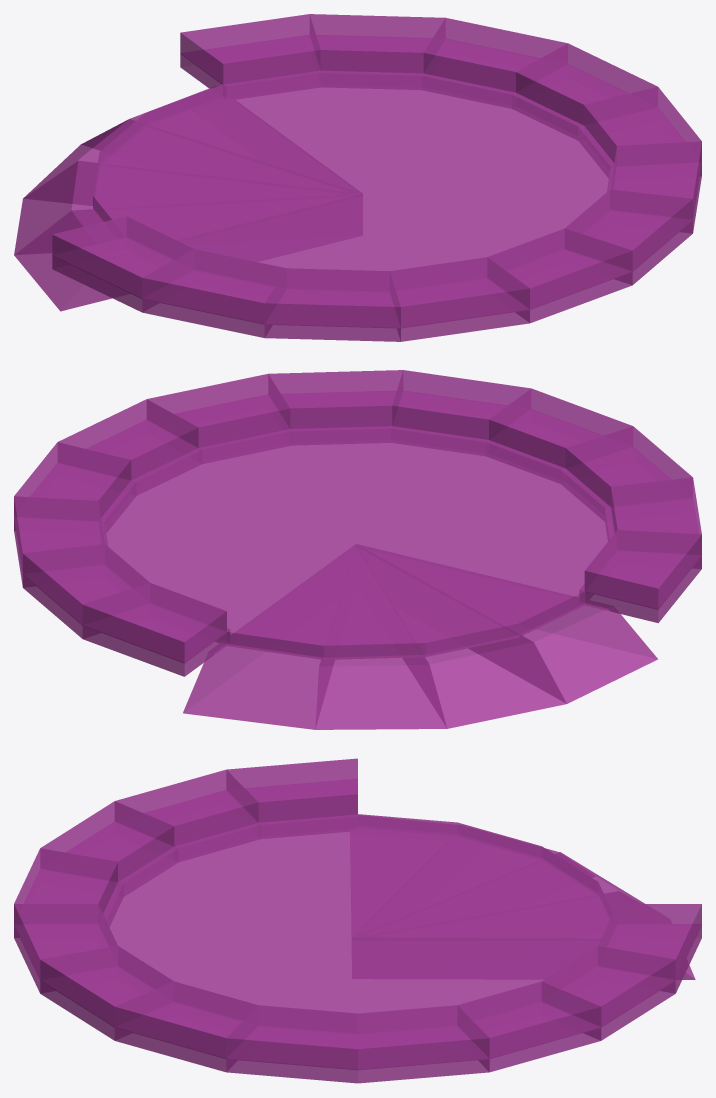
The model's file is SM_Bld_Wall_Fort_L_Corner_Tower_02_Cap_01_Collision.fbx.
3 renders of one model, top to bottom at view 1: azimuth 30°, elevation 25°; view 2: azimuth 150°, elevation 25°; view 3: azimuth 270°, elevation 25°, orthographic.
Parts seen in each view (by area): view 1: SM_Bld_Wall_Fort_L_Corner_Tower_02_Cap_01_Collision; view 2: SM_Bld_Wall_Fort_L_Corner_Tower_02_Cap_01_Collision; view 3: SM_Bld_Wall_Fort_L_Corner_Tower_02_Cap_01_Collision.
Part boxes in pixels (x1,y1,x2,y2): SM_Bld_Wall_Fort_L_Corner_Tower_02_Cap_01_Collision: (14, 14, 701, 341); SM_Bld_Wall_Fort_L_Corner_Tower_02_Cap_01_Collision: (14, 370, 701, 729); SM_Bld_Wall_Fort_L_Corner_Tower_02_Cap_01_Collision: (14, 758, 701, 1083).
Size of the model in its own units: 905 by 107 by 905.
